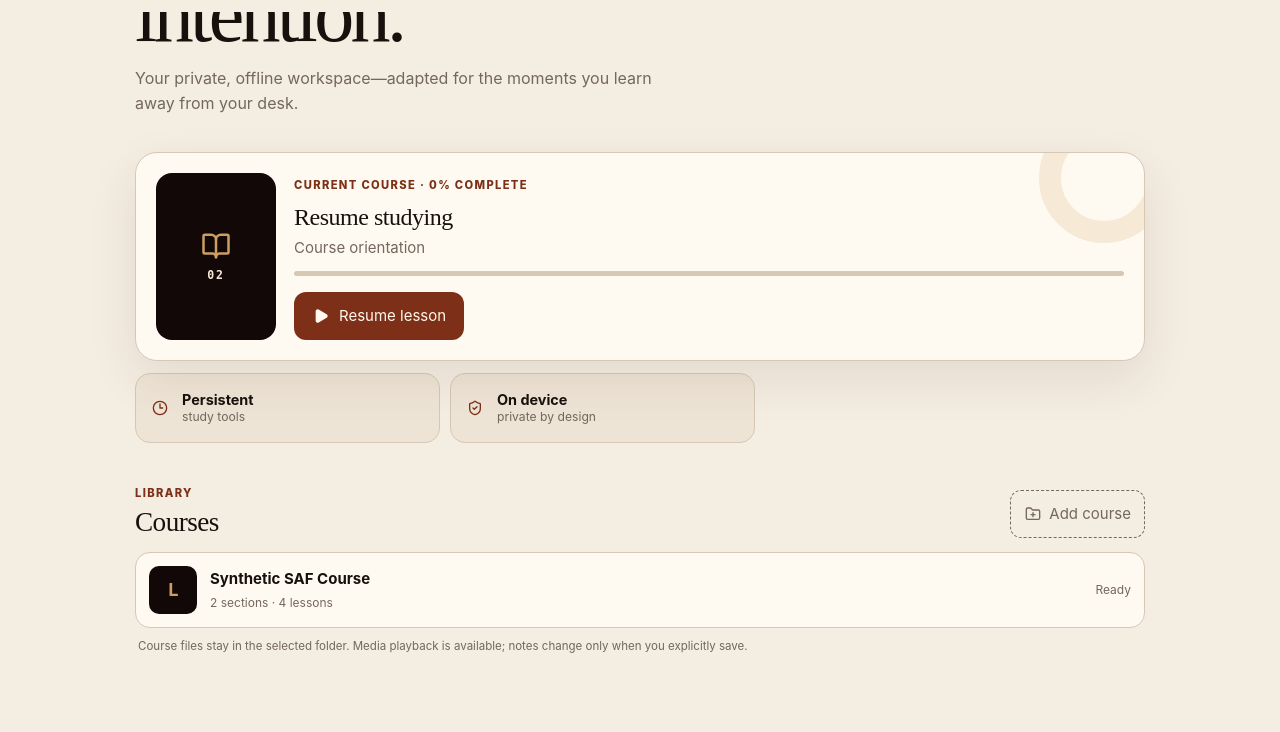
Test case: Limmud mobile shell › selects a real lesson from an expandable course outline and opens Study
(page scrolled)
Check: the heading "Resume studying" is shown, box [294,204,453,230]
Click the button with aria-label "view course outline" at x=173, y=590, box [135,552,1145,628]
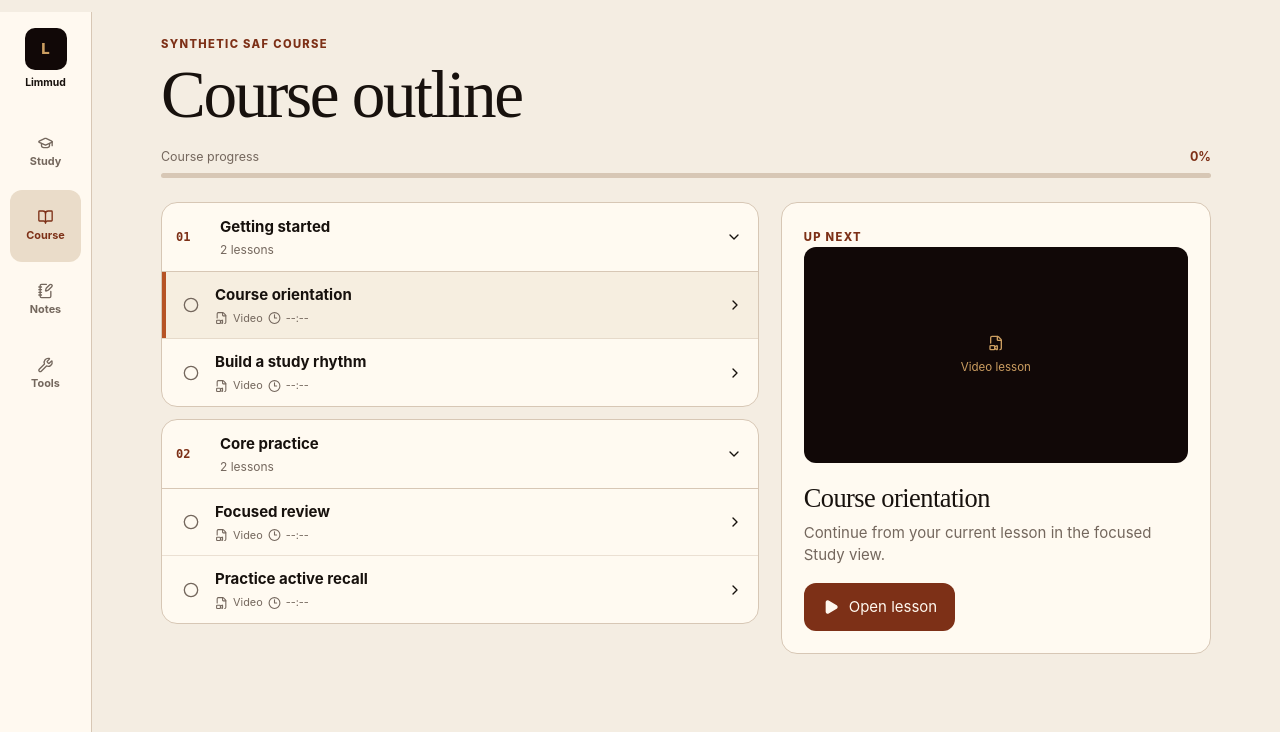
Click the button with aria-label "collapse core practice" at x=269, y=443, box [162,420,758,488]
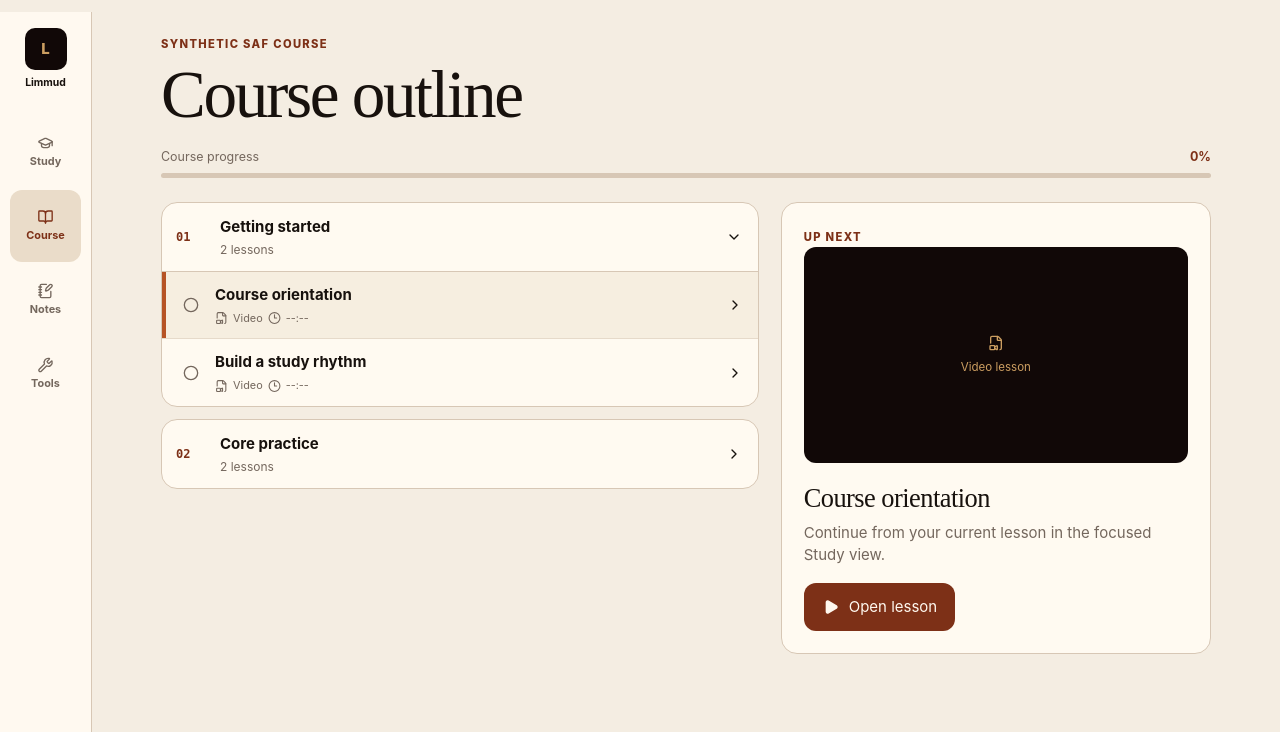
Click the button with aria-label "expand core practice" at x=269, y=443, box [162,420,758,488]
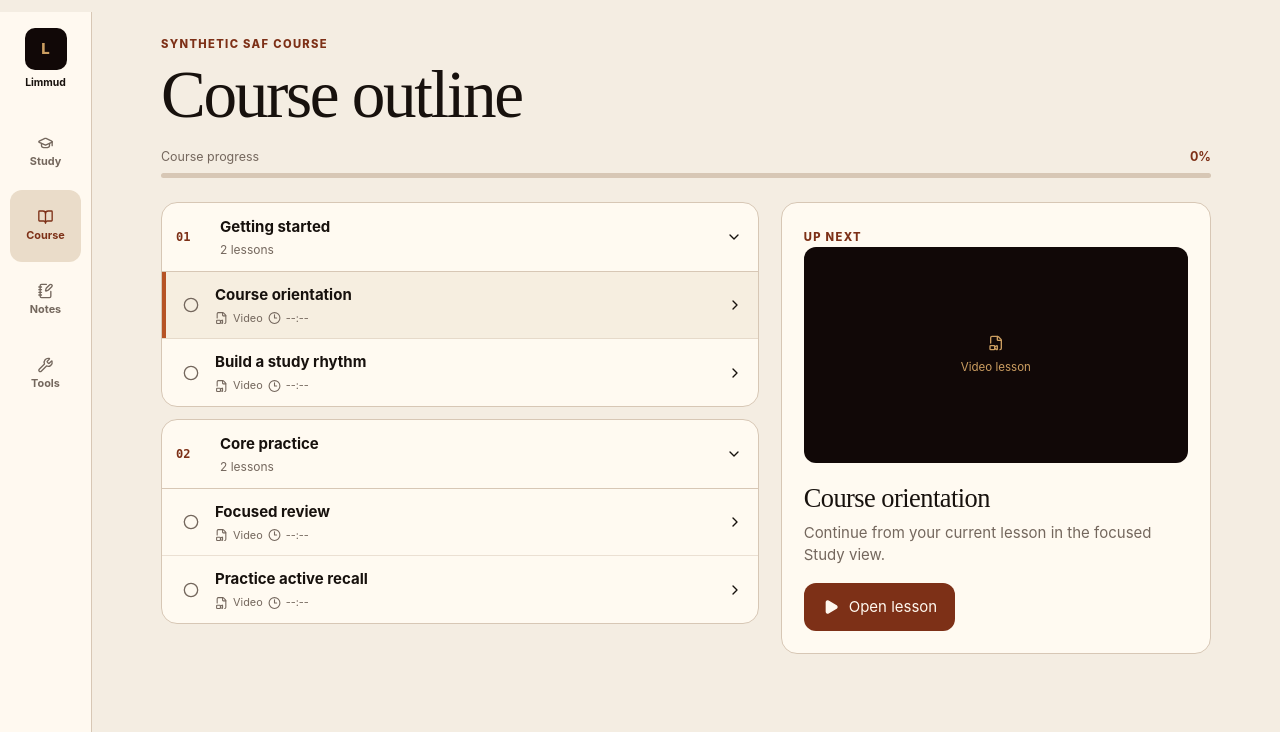
Click the button with aria-label "open focused review" at x=273, y=511, box [162,489,758,556]
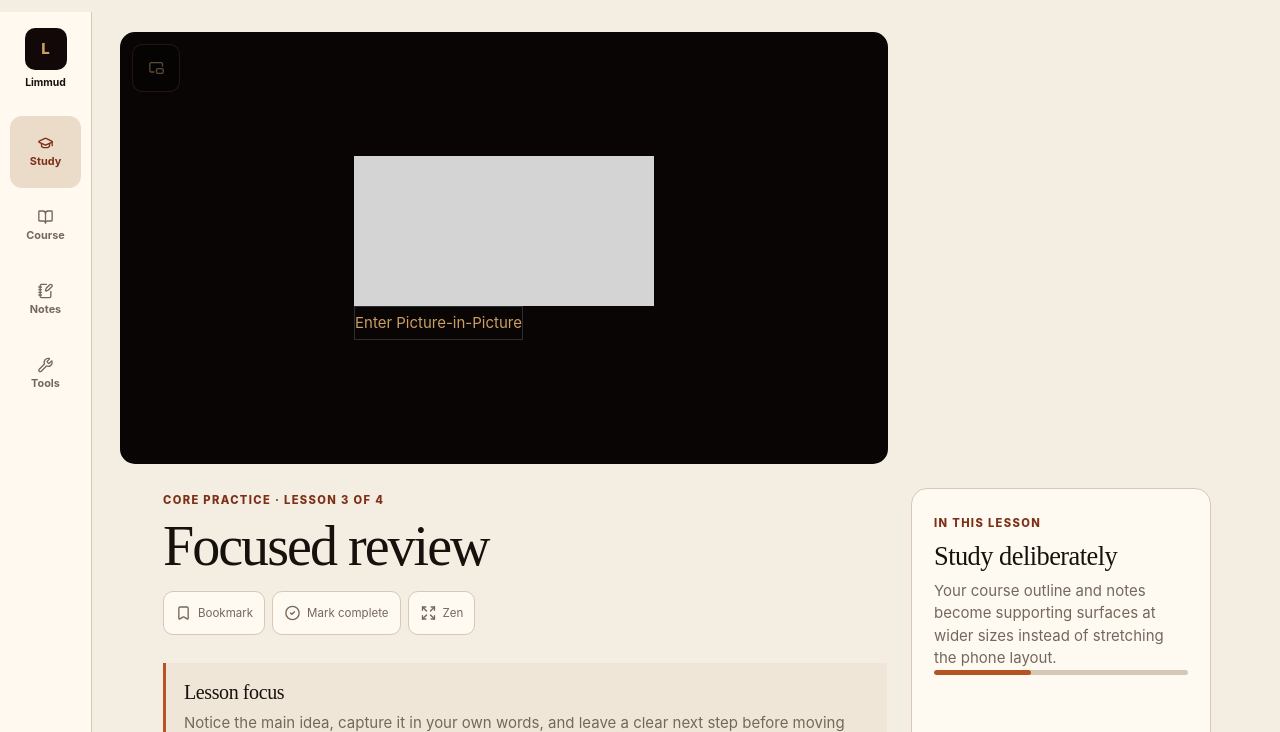
Check: the heading "Focused review" is shown, box [163,515,489,577]
